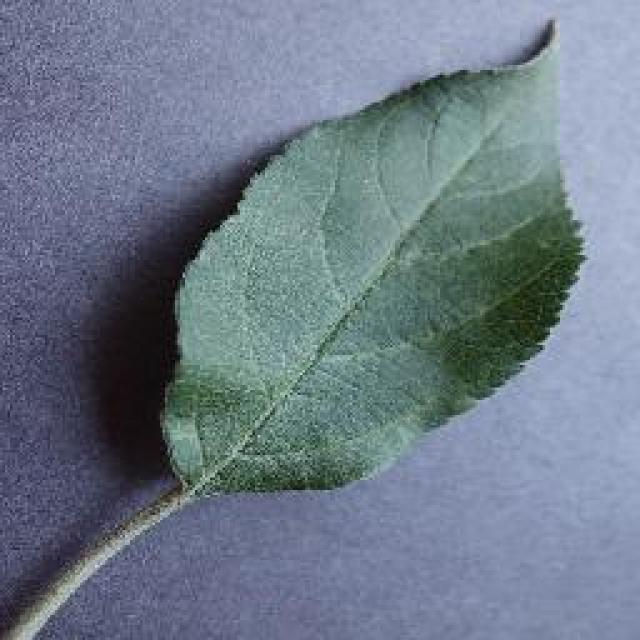apple healthy: (155, 12, 587, 500)
